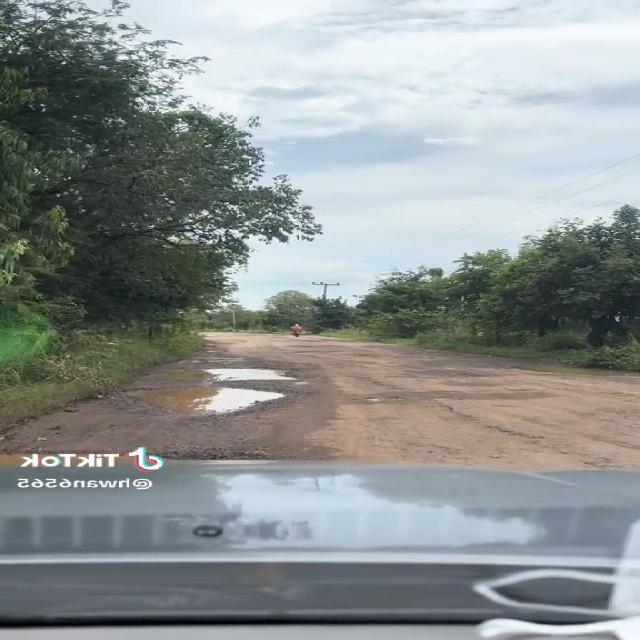Poth-hole: (361, 381, 532, 443)
